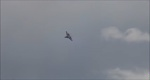maybay_muctieu: (64, 31, 73, 42)
